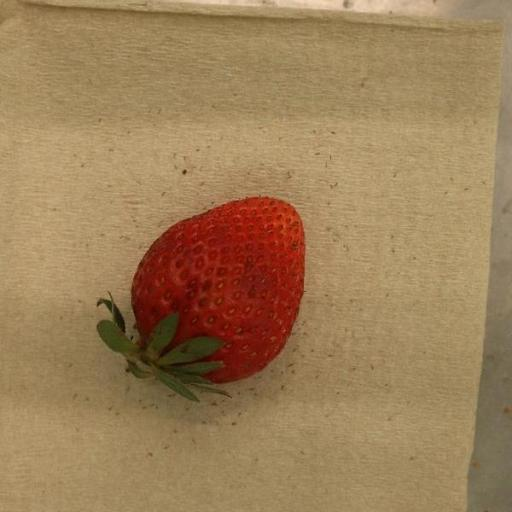Strawberry: (97, 197, 306, 404)
